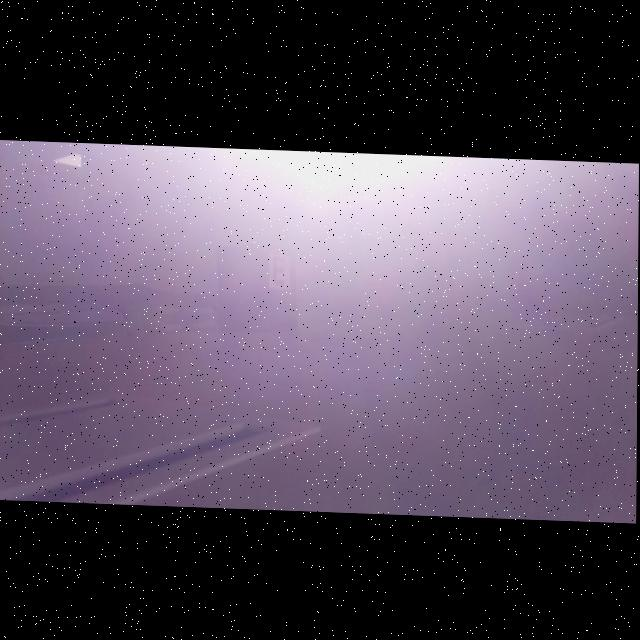E: (274, 255, 286, 282)
